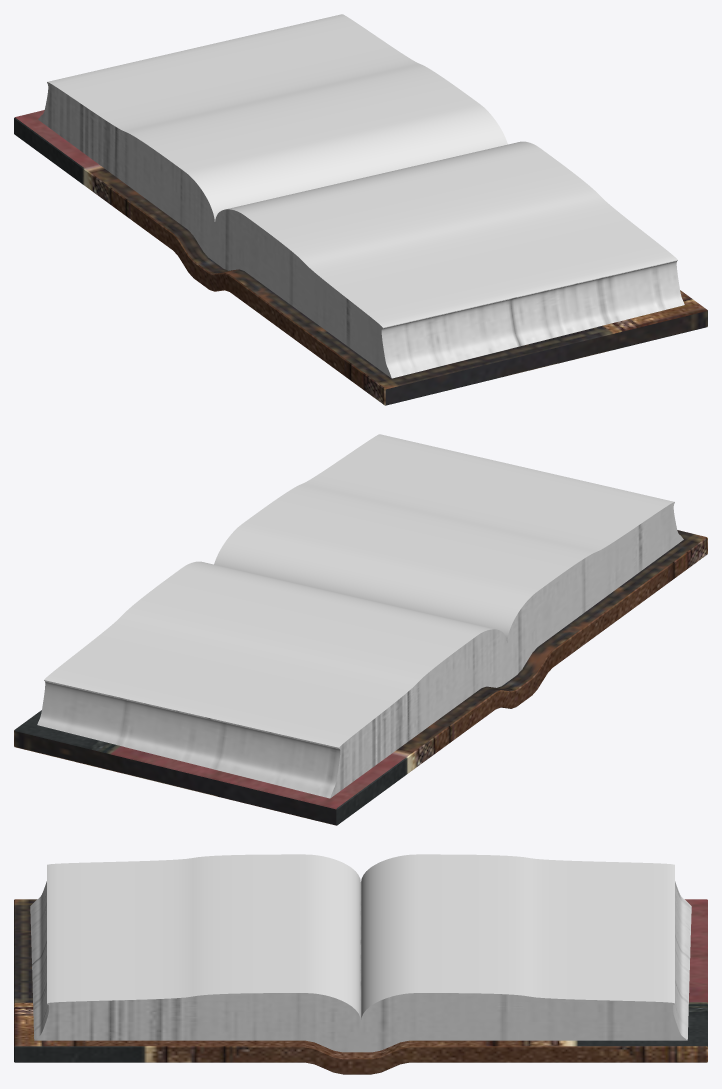
Rendered from PhoneBook_open fix uv.fbx.
3 views of the same model, one above another, from view 1: azimuth 30°, elevation 25°; view 2: azimuth 150°, elevation 25°; view 3: azimuth 270°, elevation 25° (orthographic). The views are drawn at different scales.
Visible parts, largest first — view 1: Cube.037Shape; view 2: Cube.037Shape; view 3: Cube.037Shape.
Part boxes in pixels (left/top/right/bottom): Cube.037Shape: left=14, top=14, right=707, bottom=405; Cube.037Shape: left=14, top=434, right=707, bottom=825; Cube.037Shape: left=14, top=854, right=707, bottom=1074.
Bounding box in the file's own units: 139 × 35.14 × 276.
